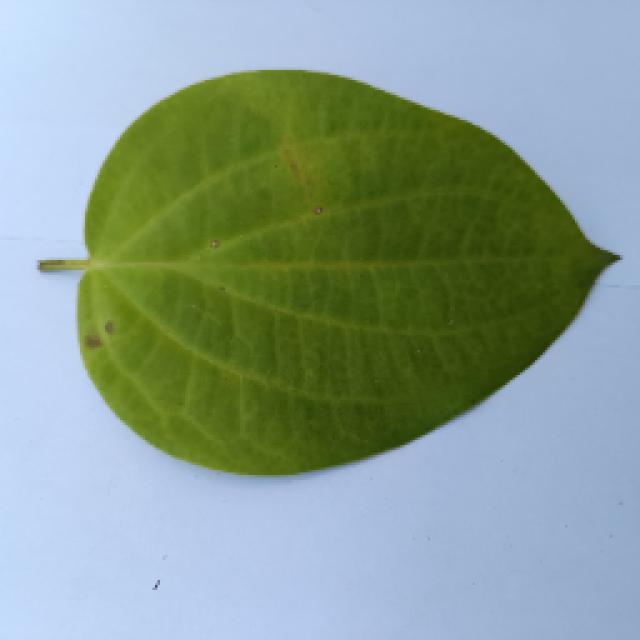slow-decline: (20, 68, 618, 480)
